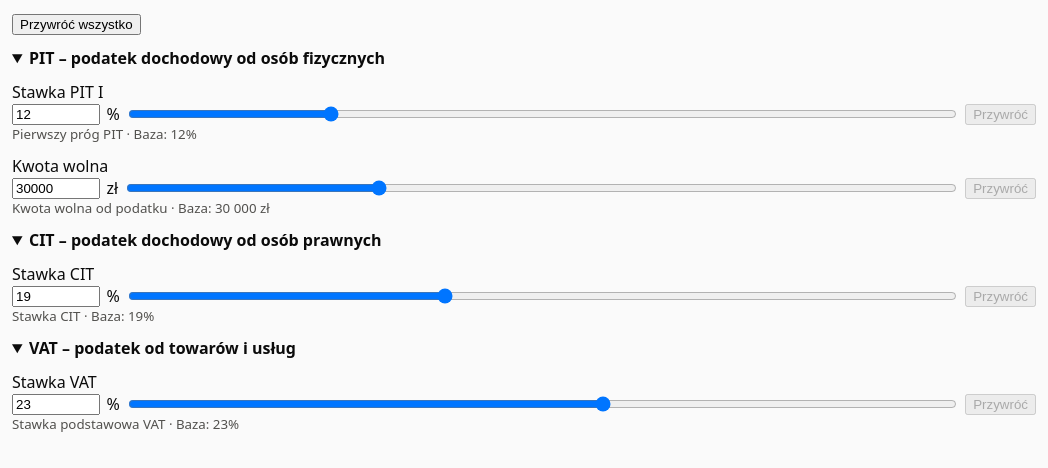
Test: ParameterPanel › reset all clears stale invalid text at default
Replace the text in the field labelled "Stawka CIT" with "80" at (56, 296), box [12,286,100,306]
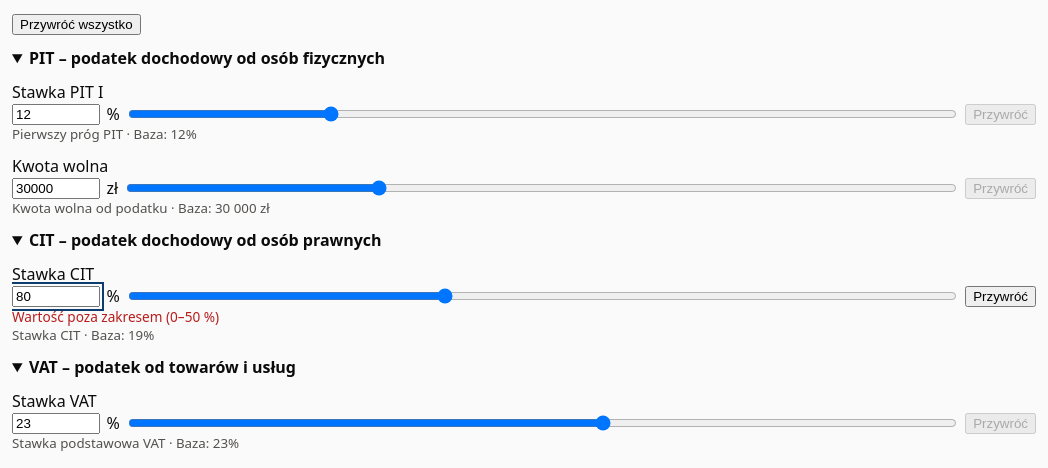
Click the button "Przywróć wszystko" at (76, 24), box [12,14,141,35]
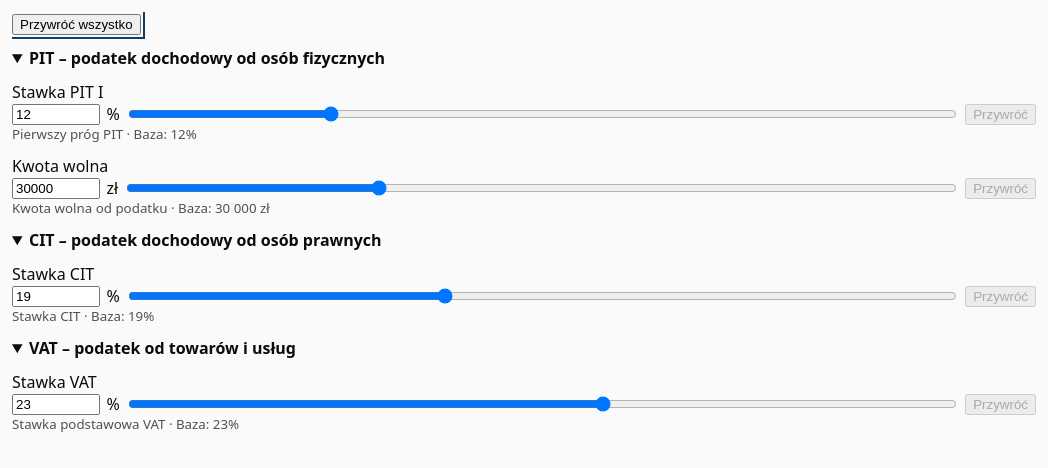
Now the field labelled "Stawka CIT" holds "19", box [12,286,100,306]
Now the message "Wartość poza zakresem (0–50 %)" is gone
